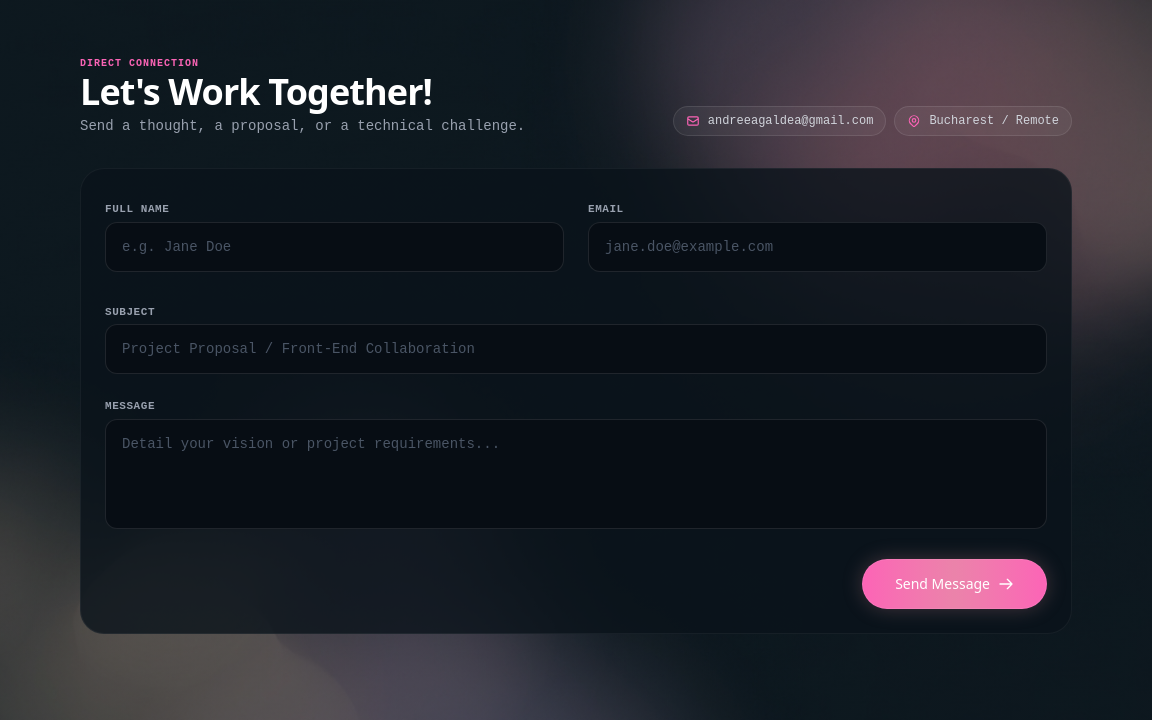
Test case: Contact component › submits the form via EmailJS, shows success message, and resets inputs
This screenshot has width=1152, height=720.
Step 1. Type "Jane Doe" into the field labelled "FULL NAME" → (334, 246), box [105, 222, 564, 272]
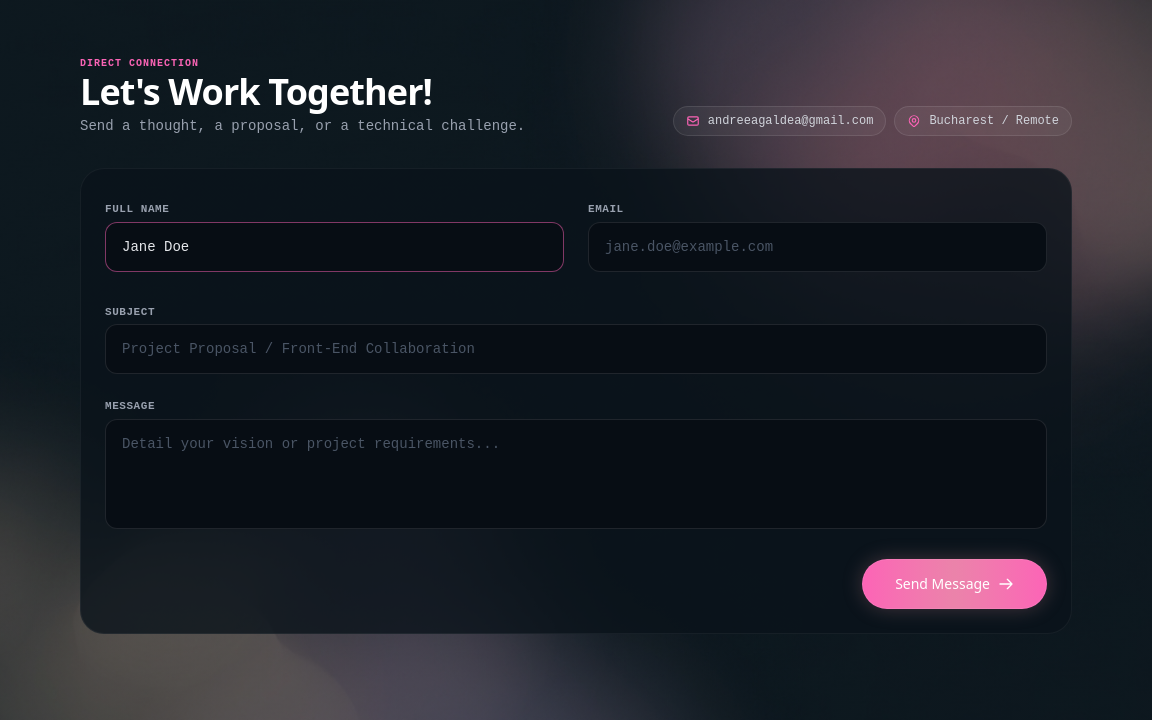
Step 2. Type "jane@example.com" into the field labelled "EMAIL" → (818, 246), box [588, 222, 1047, 272]
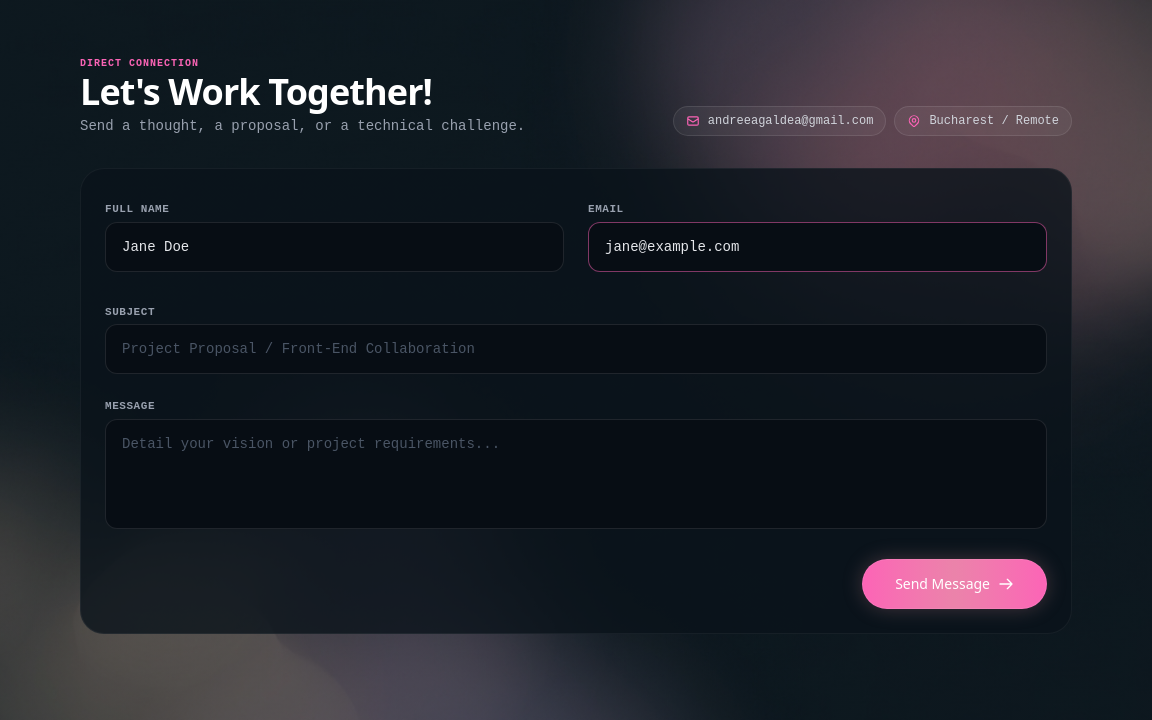
Step 3. Type "Project Proposal" into the field labelled "SUBJECT" → (576, 349), box [105, 324, 1047, 374]
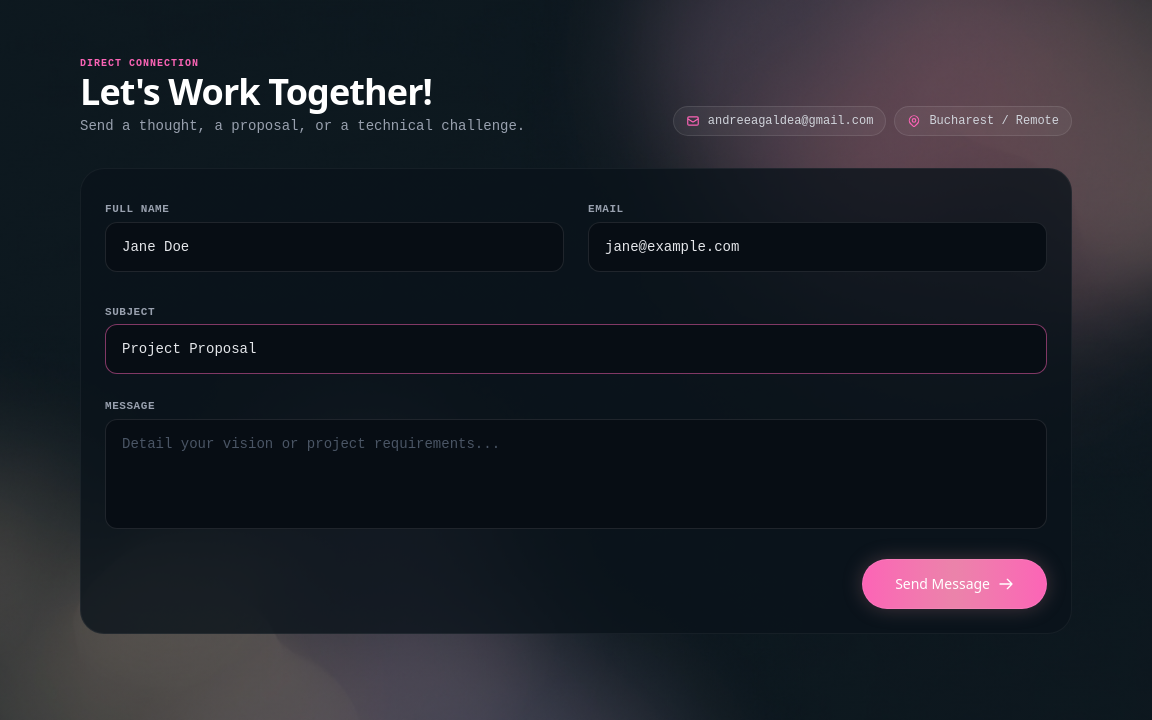
Step 4. Type "Hello Andreea, let us collaborate!" into the text box labelled "MESSAGE" → (576, 474), box [105, 418, 1047, 528]
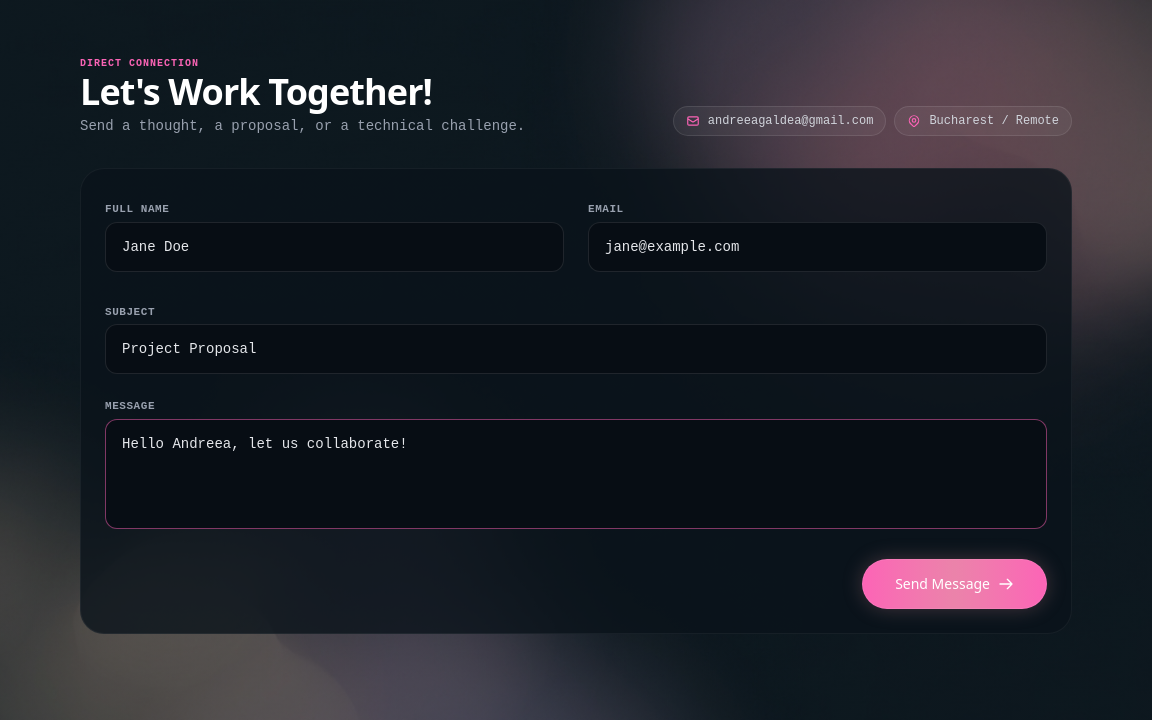
Step 5. Click the button "Send Message" → (955, 584), box [862, 558, 1047, 608]
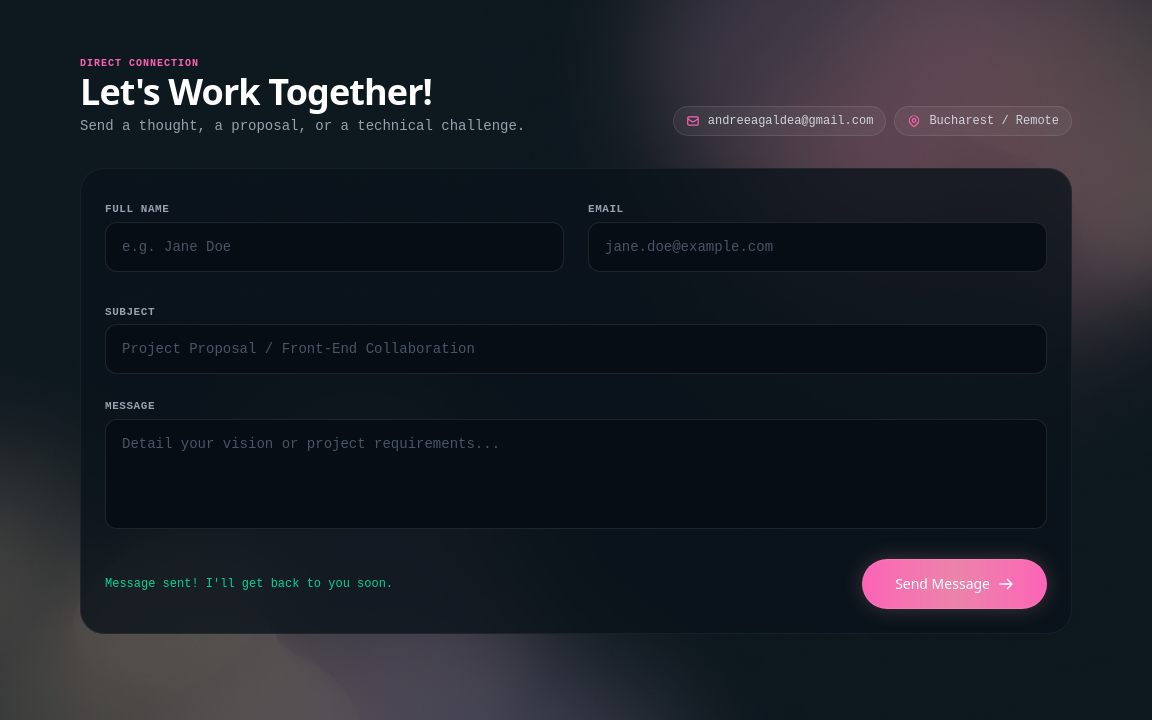
Check: the text "Message sent! I'll get back to you soon." is shown, box [105, 576, 393, 592]
Check: the field labelled "FULL NAME" is empty, box [105, 222, 564, 272]
Check: the field labelled "EMAIL" is empty, box [588, 222, 1047, 272]
